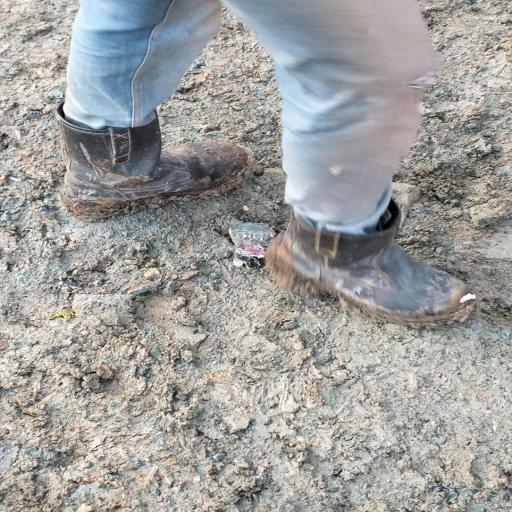safety_shoe: (274, 208, 478, 328), (50, 107, 260, 217)
